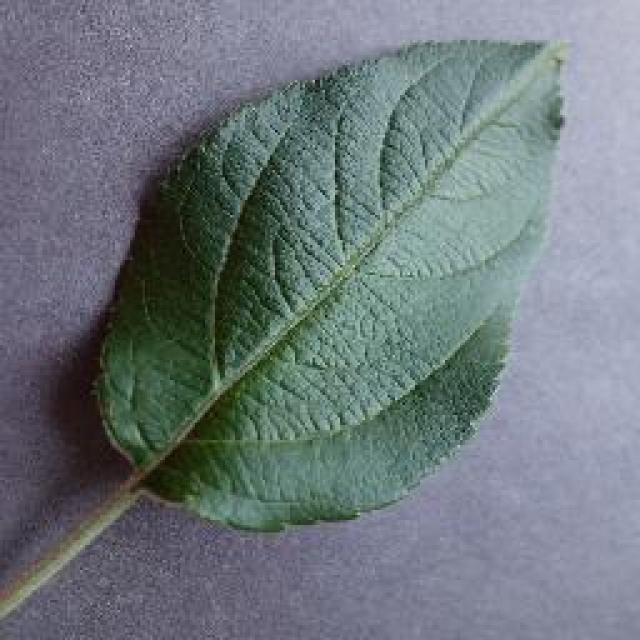apple healthy: (90, 32, 570, 532)
